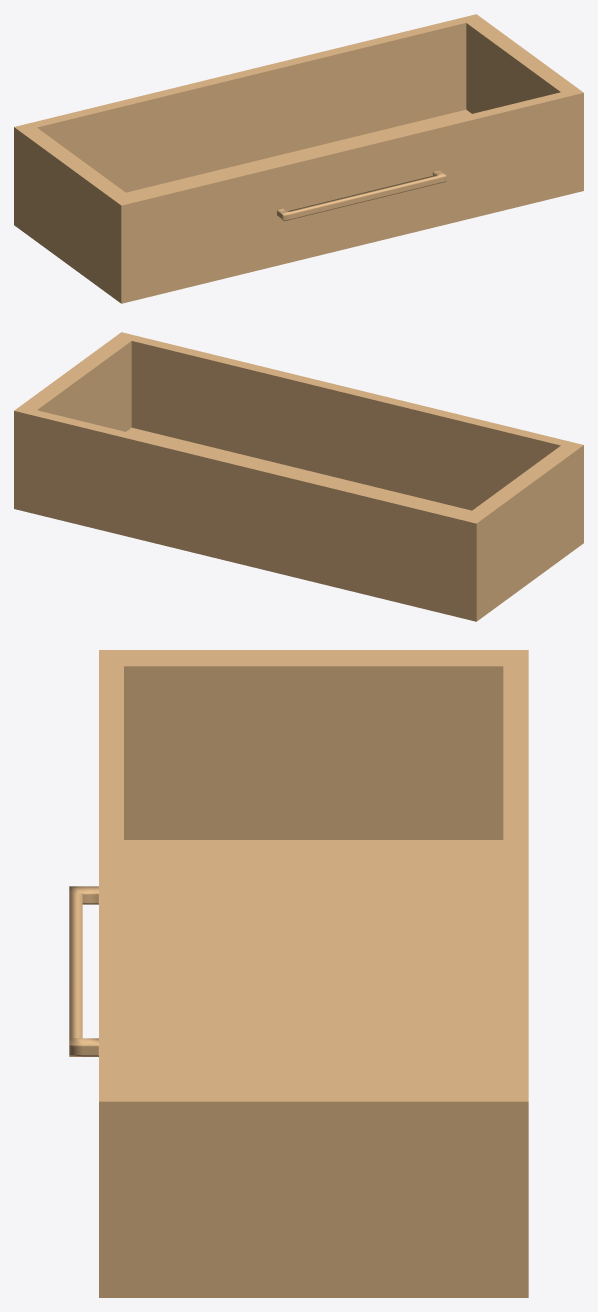
Rendered from Armario_cajón.fbx.
3 views of the same model, one above another, from view 1: azimuth 30°, elevation 25°; view 2: azimuth 150°, elevation 25°; view 3: azimuth 270°, elevation 25° (orthographic). The views are drawn at different scales.
Parts seen in each view (by area): view 1: Cube.028; view 2: Cube.028; view 3: Cube.028.
Boxes of the visible parts, x1,y1,x2,y2 form: Cube.028: (14, 14, 583, 303); Cube.028: (14, 332, 583, 621); Cube.028: (69, 650, 528, 1297).
Bounding box in the file's own units: 20.03 × 4.06 × 8.61.
